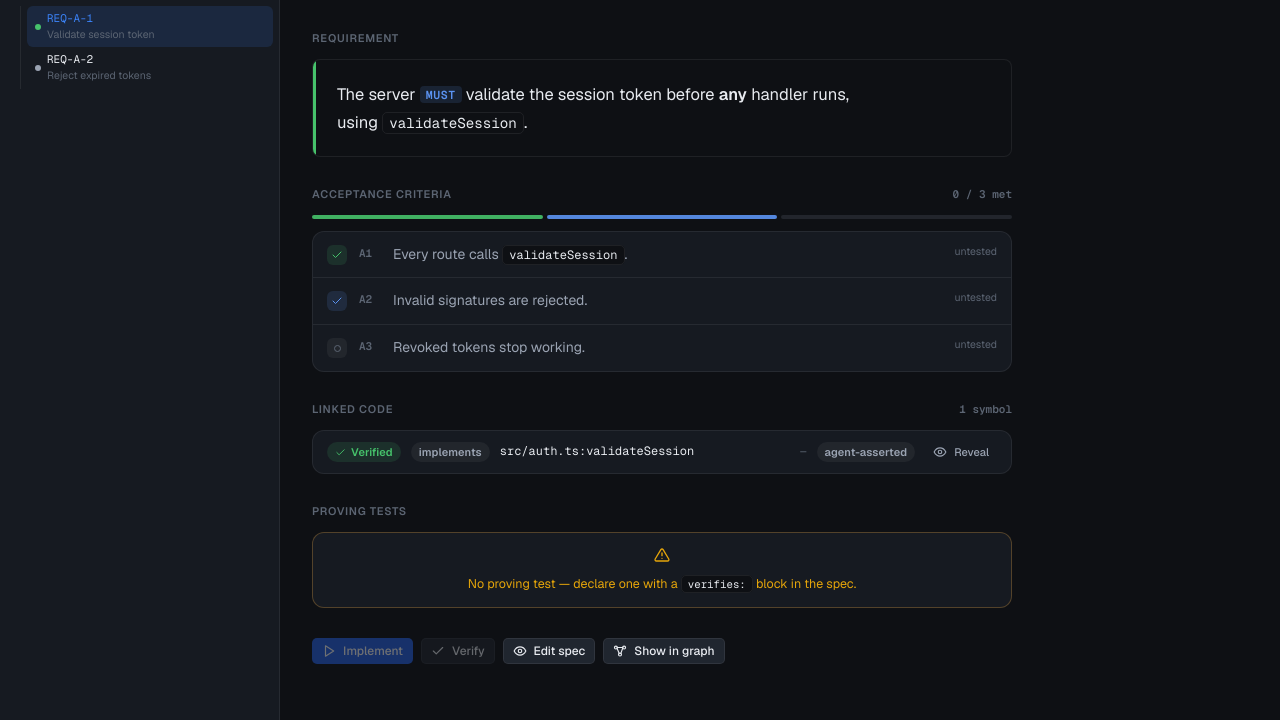
Test case: SpecEditor (REQ-DESKTOP-006…011) › 006.A3: changing the tree selection while editing discards the draft
Click the button "Edit spec": (549, 651) [503,638,595,664]
(page scrolled)
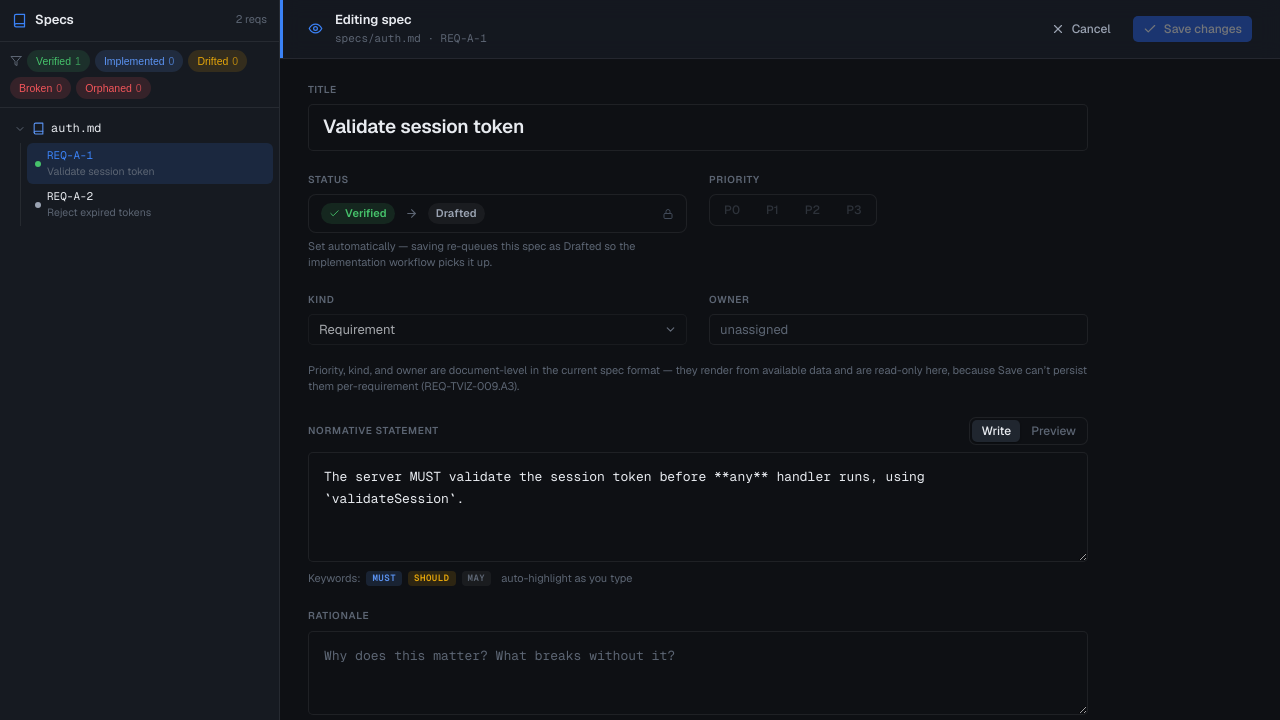
Replace the text in the field named "title" with "Doomed draft": (698, 128) [308,104,1088,151]
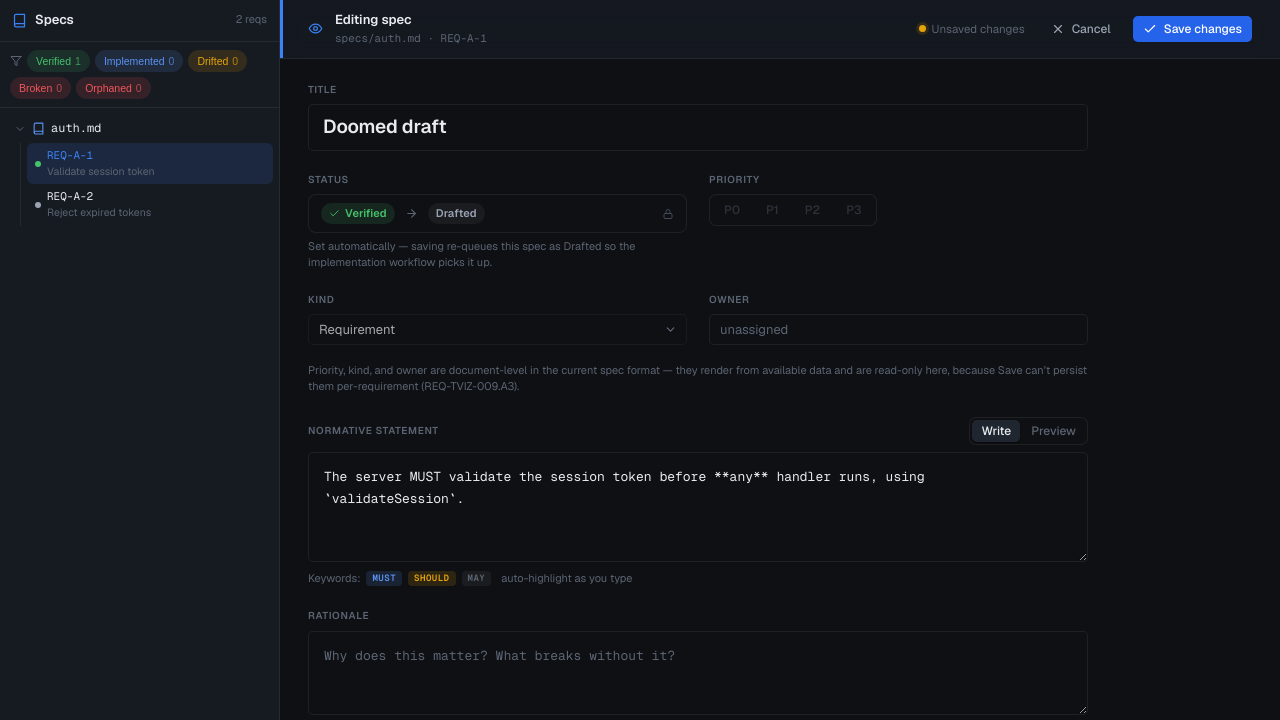
Click the text "REQ-A-2": (70, 196) [47,189,93,203]
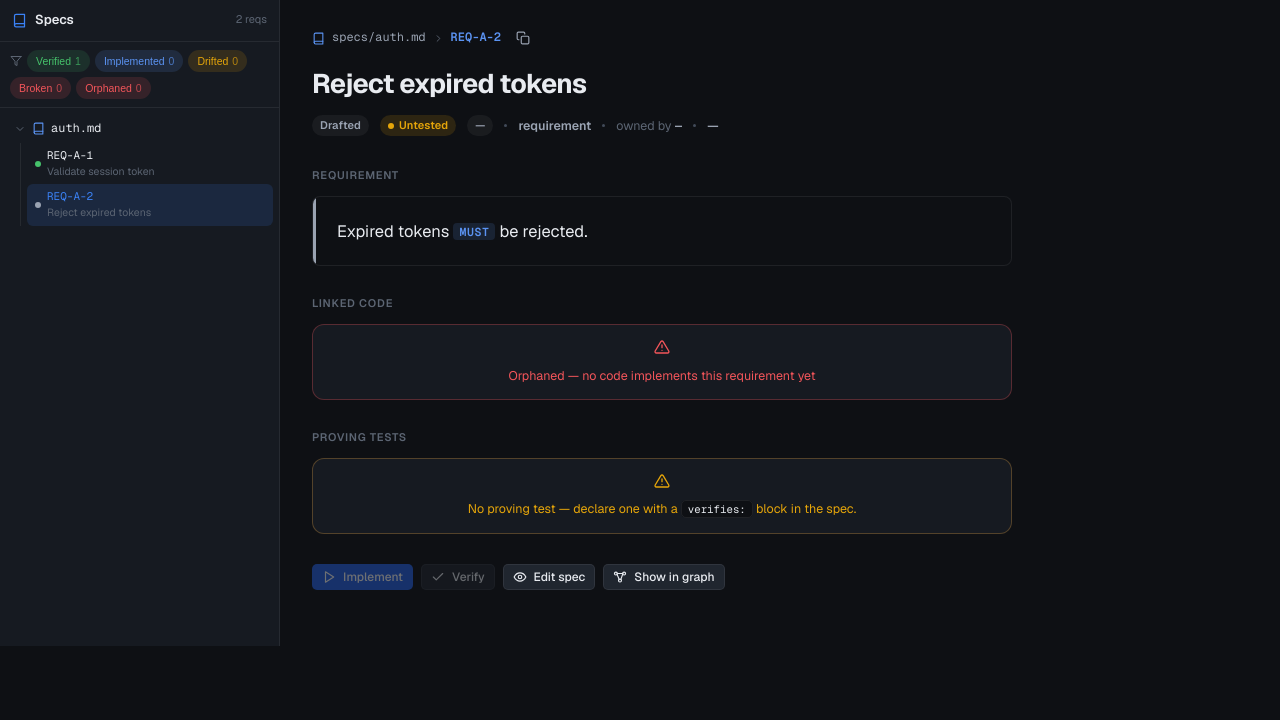
Expected: the heading "Reject expired tokens" is shown, [312,66,586,101]
Expected: the text "Editing spec" is gone
Click the text "REQ-A-1": (70, 155) [47,148,93,162]
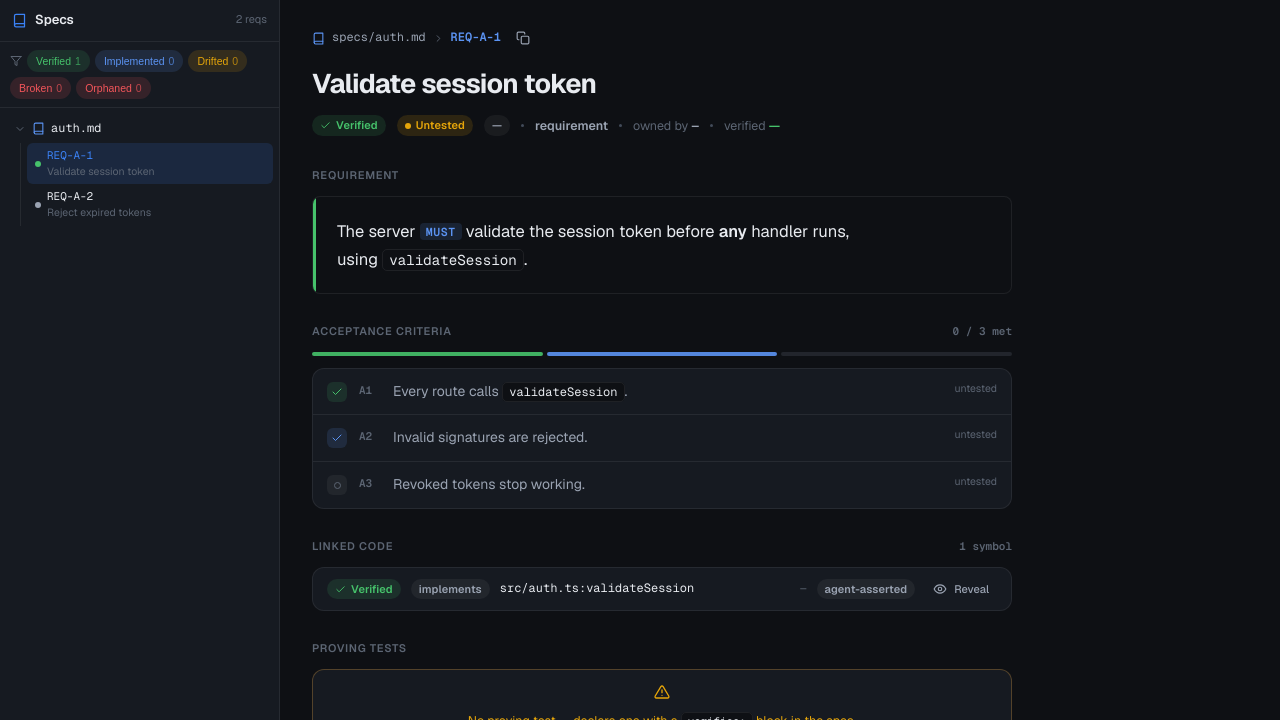
Expected: the heading "Validate session token" is shown, [312,66,596,101]
